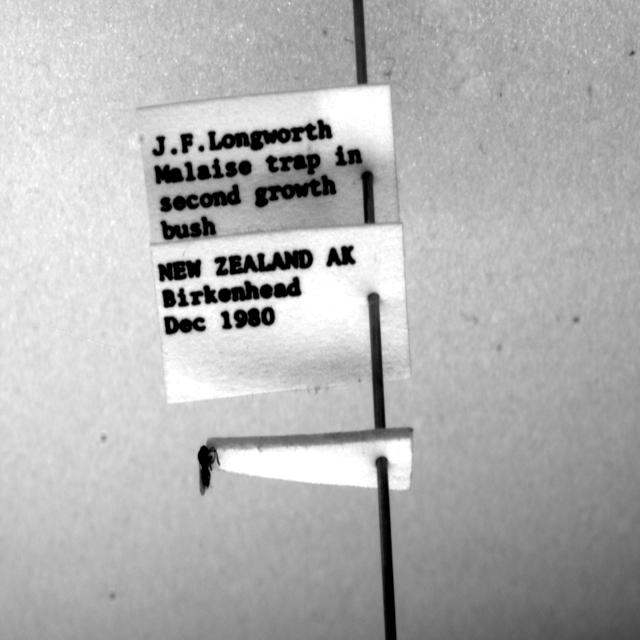typed_label: (151, 223, 410, 403), (138, 84, 399, 244)
